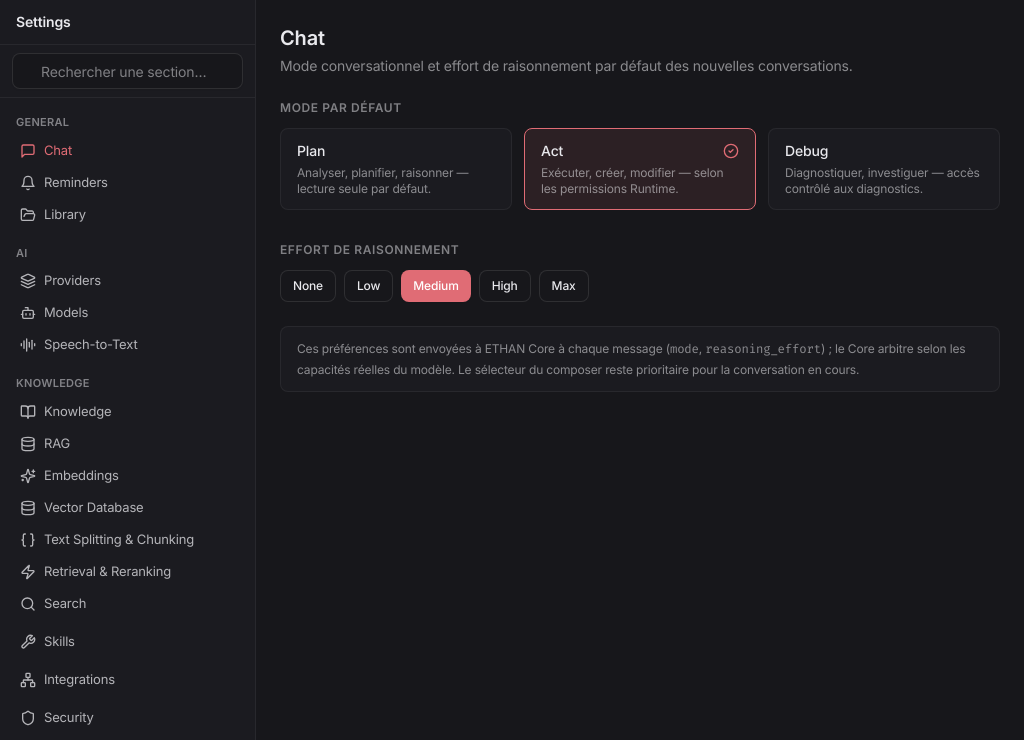
Test: Settings → Providers — révélation seule (pas de second cerveau) › sans provider configuré : message explicite, aucun provider inventé
Click the button "Providers": point(128, 281) [8,265,247,297]
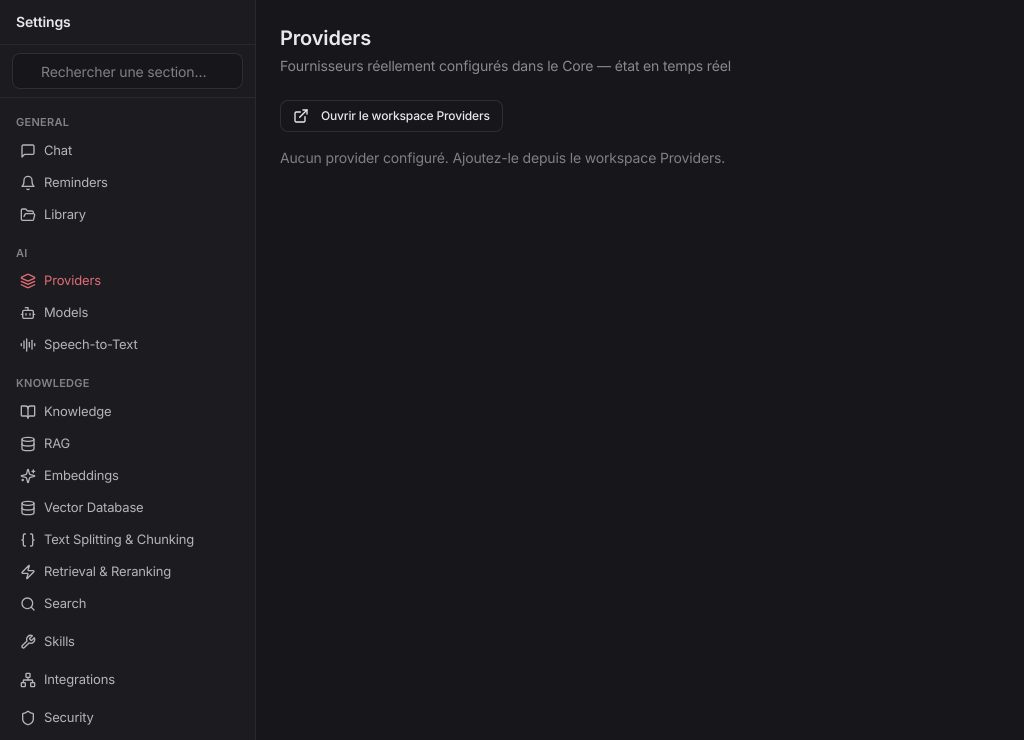
Check: the text "Aucun provider configuré. Ajoutez-le depuis le workspace Providers." is shown, box [280,149,725,166]
